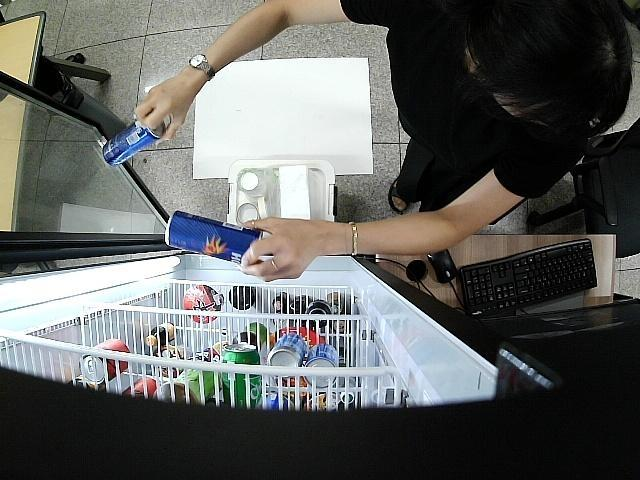16_hot6: (164, 210, 264, 268), (102, 116, 165, 168)
